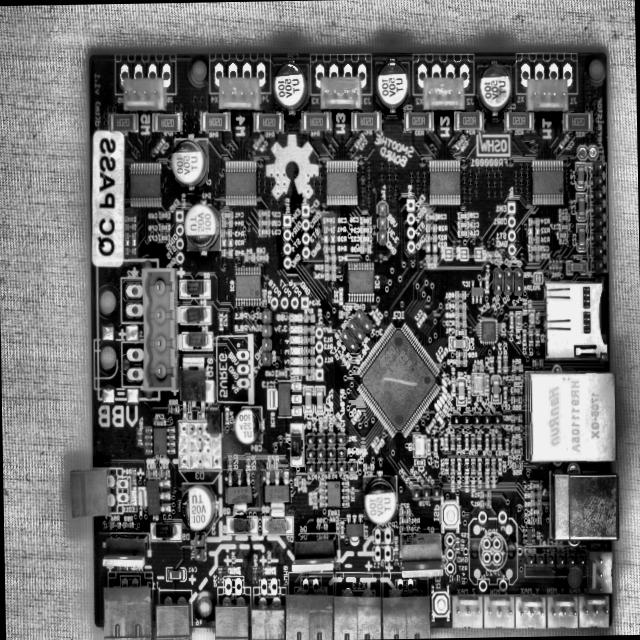PCB: (62, 51, 618, 640)
